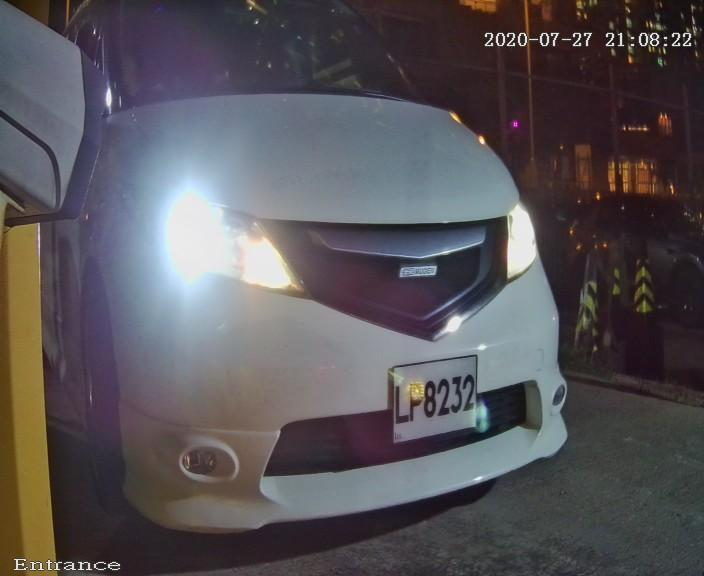privatecar: (82, 16, 560, 543)
